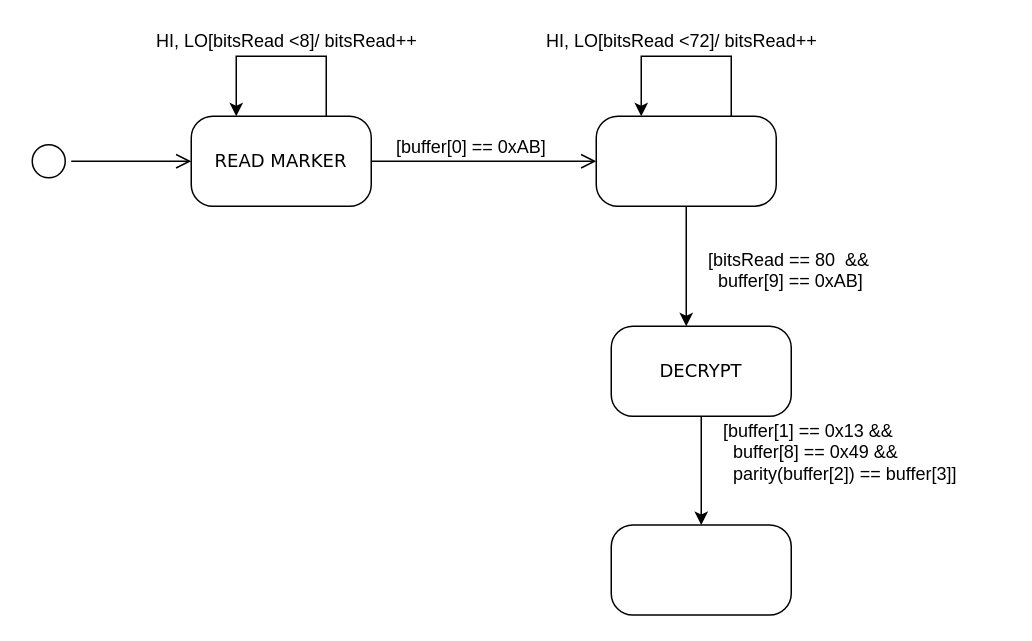
This 1032x641 diagram has some shape labels left out. The box of each missing label's shape, as (x1, y1, x2, y2) in pixels:
PRINT: (610, 524, 791, 615)
READ TRAILING: (595, 115, 776, 206)
